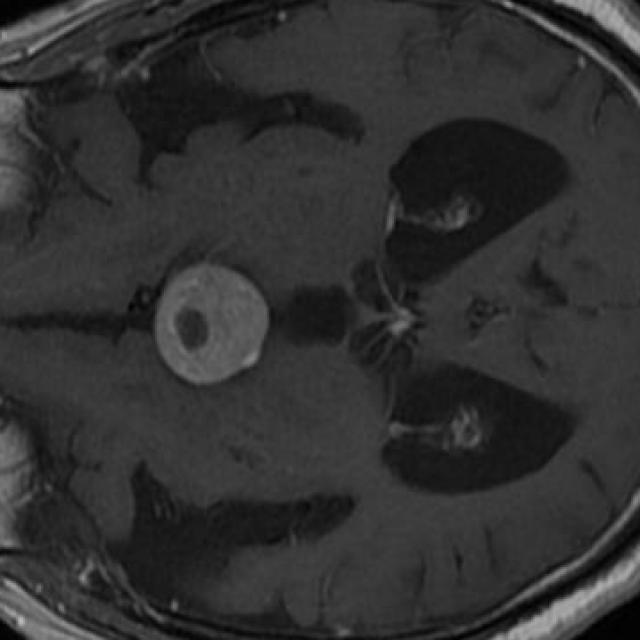pituitary: (152, 262, 271, 387)
